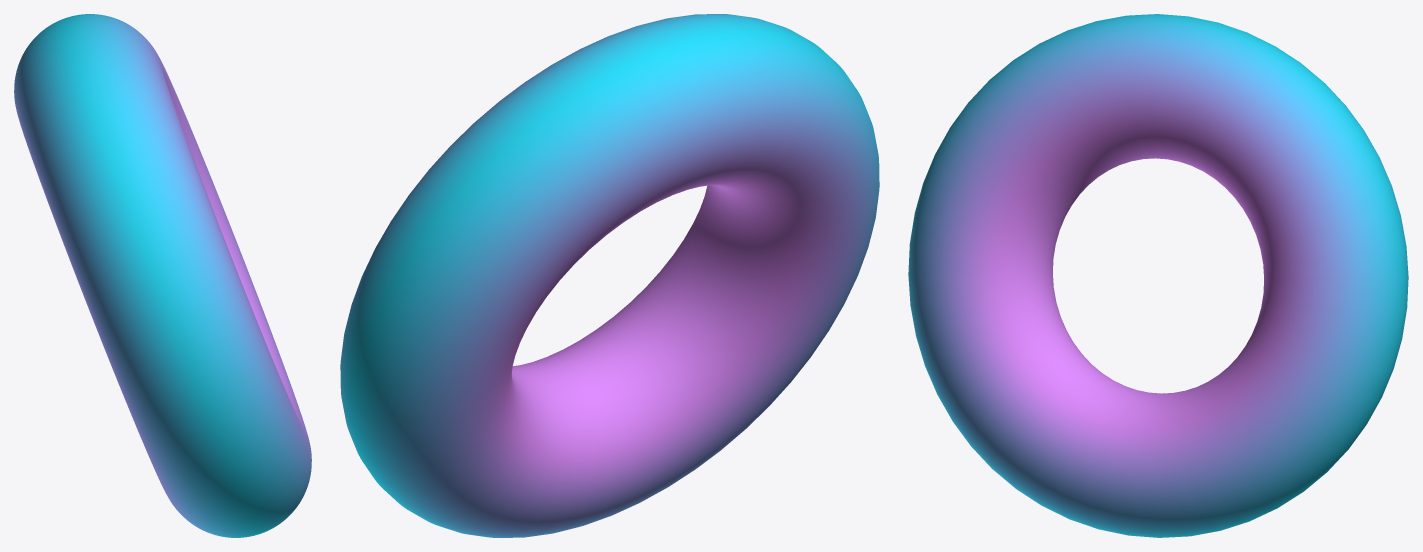
Rendered from Donut.obj.
3 renders of one model, left to right at view 1: azimuth 30°, elevation 25°; view 2: azimuth 150°, elevation 25°; view 3: azimuth 270°, elevation 25°, orthographic. The views are drawn at different scales.
Parts seen in each view (by area): view 1: Torus.1; view 2: Torus.1; view 3: Torus.1.
Boxes of the visible parts, left/top/right/bottom form: Torus.1: left=14, top=14, right=311, bottom=537; Torus.1: left=340, top=14, right=879, bottom=537; Torus.1: left=908, top=14, right=1408, bottom=537.
Size of the model in its own units: 348 by 528 by 526.
